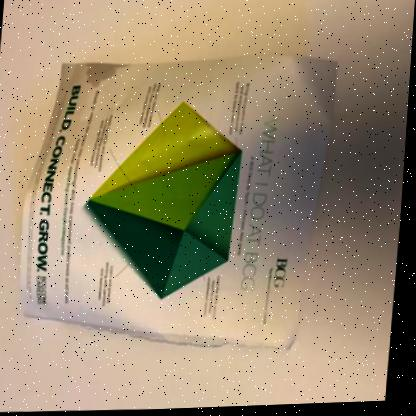Paper: (24, 58, 336, 350)
